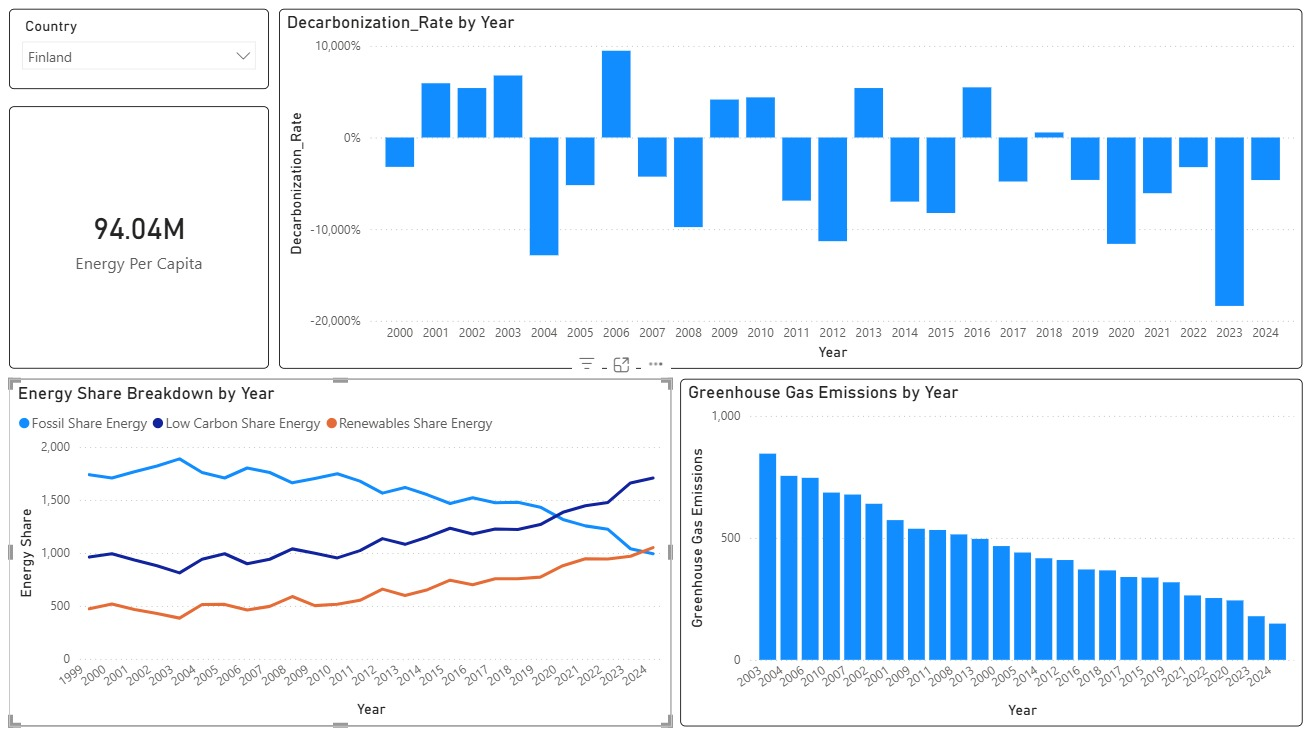

Layout of this report page (visuals, bound fields, positions):
{"tool":"powerbi","page":{"name":"Page 1","canvas":[1280,720],"ordinal":0},"visuals":[{"type":"lineChart","title":"Energy Share Breakdown by Year","fields":{"Category":["Dim Year.Year"],"Y":["Fact Energy.Fossil Share Energy","Fact Energy.Low Carbon Share Energy","Fact Energy.Renewables Share Energy"]},"box":[9.8,369.5,646.3,339],"z":0},{"type":"slicer","fields":{"Values":["Dim Country.Country"]},"box":[9.8,8.5,253.7,78],"z":1000},{"type":"columnChart","fields":{"Category":["Dim Year.Year"],"Y":["Measures.Decarbonization_Rate"]},"box":[273.2,8.5,998.8,351.2],"z":2000},{"type":"clusteredColumnChart","fields":{"Category":["Dim Year.Year"],"Y":["Fact Energy.Greenhouse Gas Emissions"]},"box":[664.6,369.5,607.3,339],"z":3000},{"type":"card","fields":{"Values":["Fact Energy.Energy Per Capita"]},"box":[9.8,103.7,253.7,256.1],"z":3001}]}

Visuals, with their boxes in screenshot pixels (x1, y1, x2, y2), scaled from the page's 1280x720 canvas onto the 1310x738 screenshot:
"Energy Share Breakdown by Year" lineChart: (left=10, top=379, right=671, bottom=726)
slicer - Dim Country.Country: (left=10, top=9, right=270, bottom=89)
columnChart - Dim Year.Year x Measures.Decarbonization_Rate: (left=280, top=9, right=1302, bottom=369)
clusteredColumnChart - Dim Year.Year x Fact Energy.Greenhouse Gas Emissions: (left=680, top=379, right=1302, bottom=726)
card - Fact Energy.Energy Per Capita: (left=10, top=106, right=270, bottom=369)
